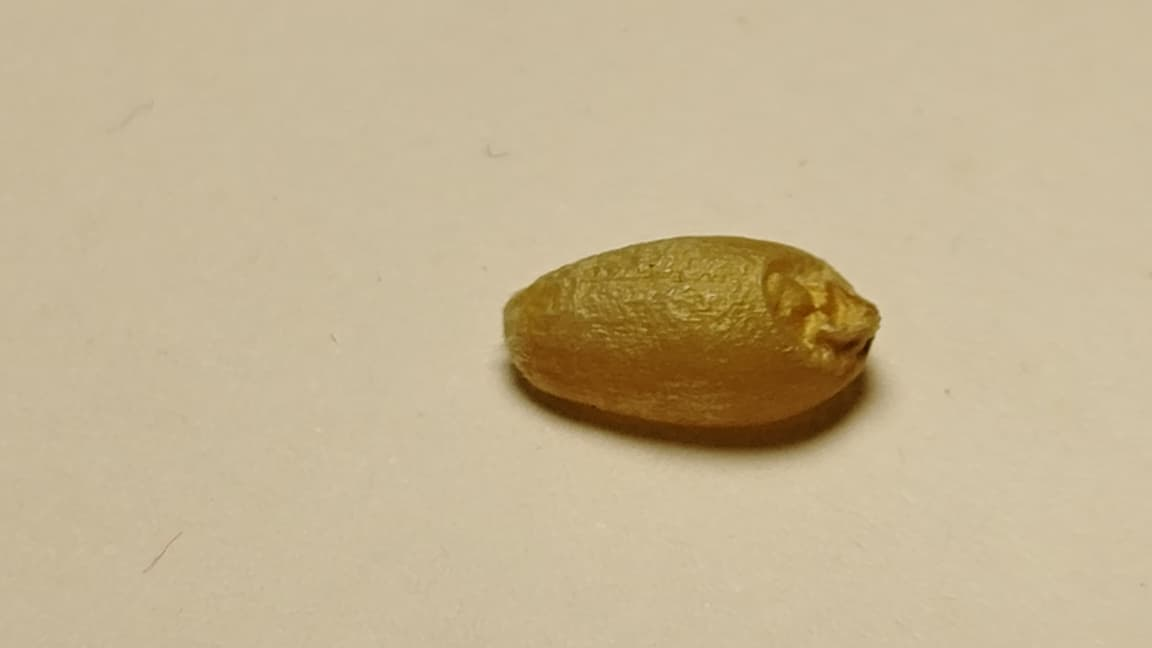healthy: (504, 235, 879, 425)
